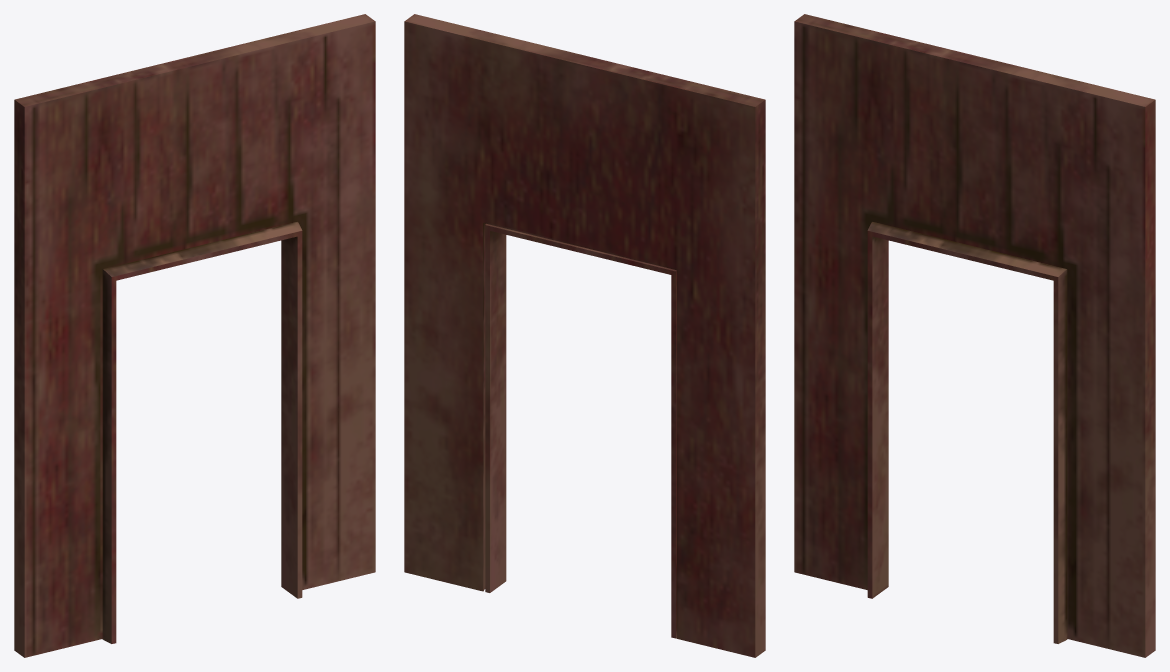
The model's file is Wall with door.fbx.
The picture shows the model from 3 angles, left to right: view 1: azimuth 30°, elevation 25°; view 2: azimuth 150°, elevation 25°; view 3: azimuth 330°, elevation 25°; orthographic projection.
Visible parts, largest first — view 1: Parede com porta; view 2: Parede com porta; view 3: Parede com porta.
Part boxes in pixels (<box>): Parede com porta: <box>14,14,375,657</box>; Parede com porta: <box>404,14,765,657</box>; Parede com porta: <box>794,14,1155,657</box>.
Size of the model in its own units: 200 by 300 by 16.93.
